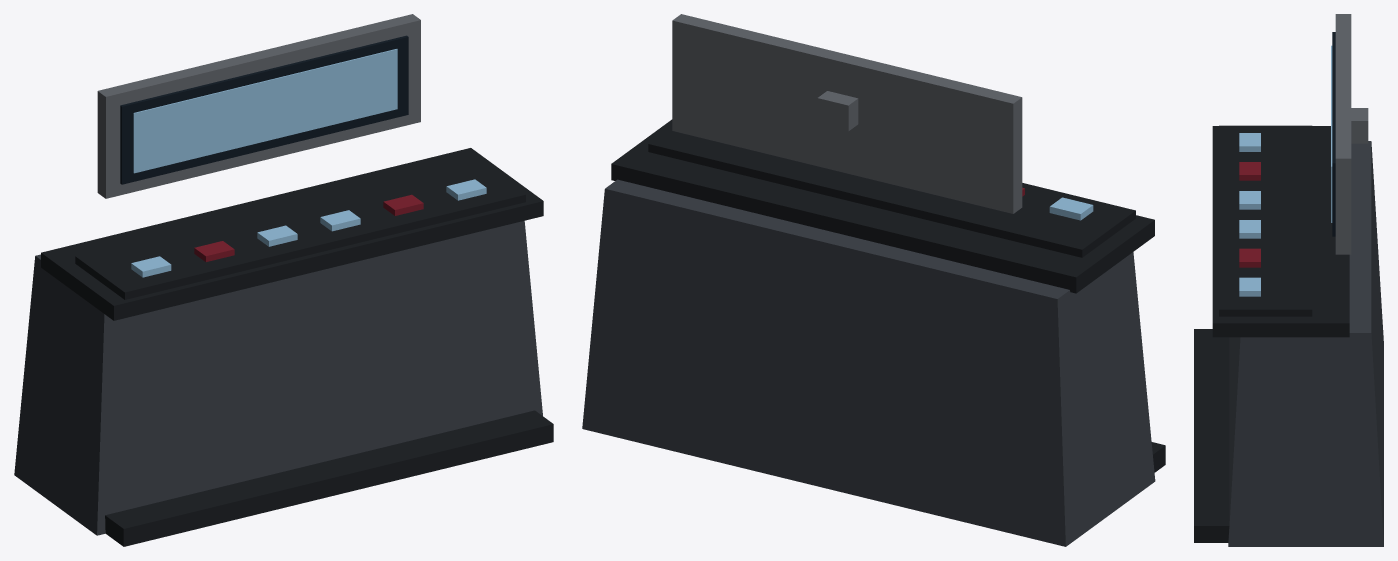
File: imperial_console.glb
3 views of the same model, side by side, from view 1: azimuth 30°, elevation 25°; view 2: azimuth 150°, elevation 25°; view 3: azimuth 270°, elevation 25° (orthographic). The views are drawn at different scales.
Parts seen in each view (by area): view 1: imperial_console; view 2: imperial_console; view 3: imperial_console.
Part boxes in pixels (x1,y1,x2,y2): imperial_console: [14, 14, 553, 546]; imperial_console: [582, 14, 1165, 546]; imperial_console: [1194, 14, 1383, 546].
Bounding box in the file's own units: 1.56 × 1.27 × 0.61.
